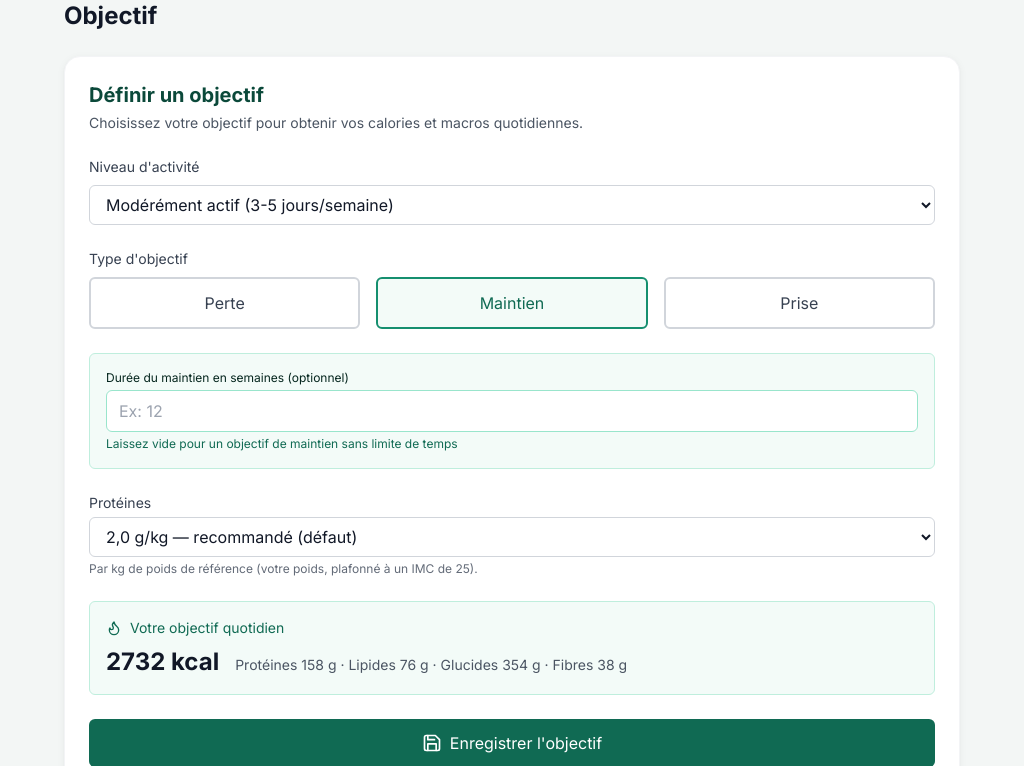
Test: GoalPage › affiche l'erreur de validation sans rien enregistrer
Click the button "Perte".
click(225, 303)  # box 89,277 -> 360,329
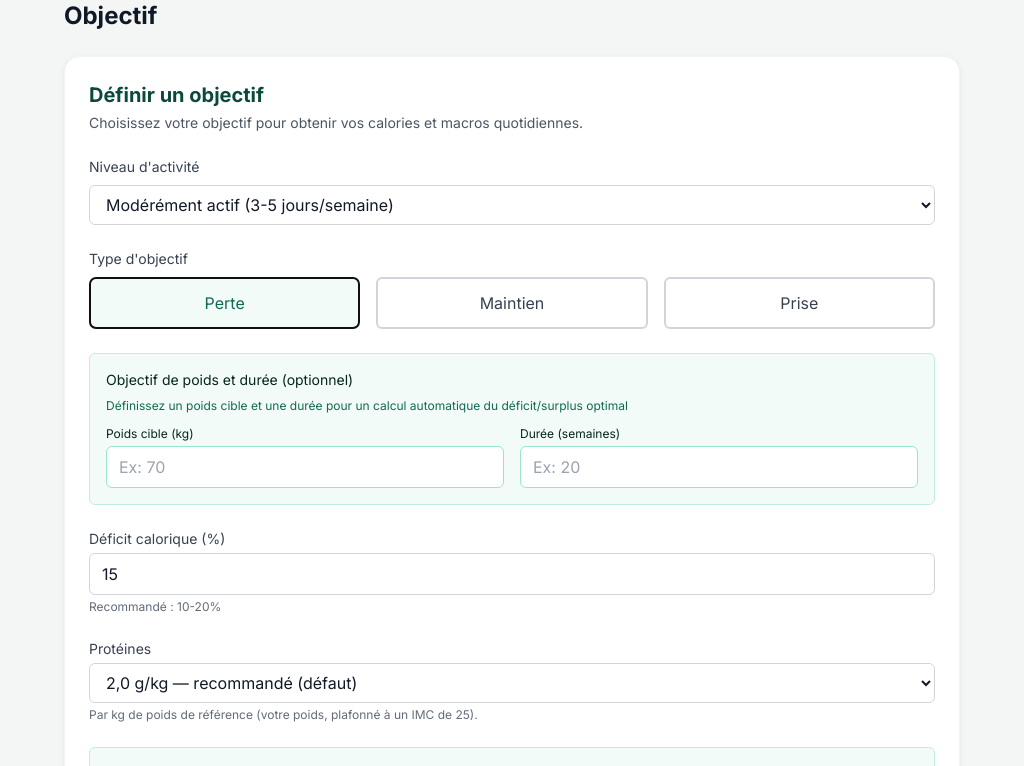
// Poids cible au-dessus du poids actuel pour une perte
Type "90" into the number field labelled "Poids cible (kg)".
click(305, 467); type("90")  # box 106,446 -> 504,488
(page scrolled)
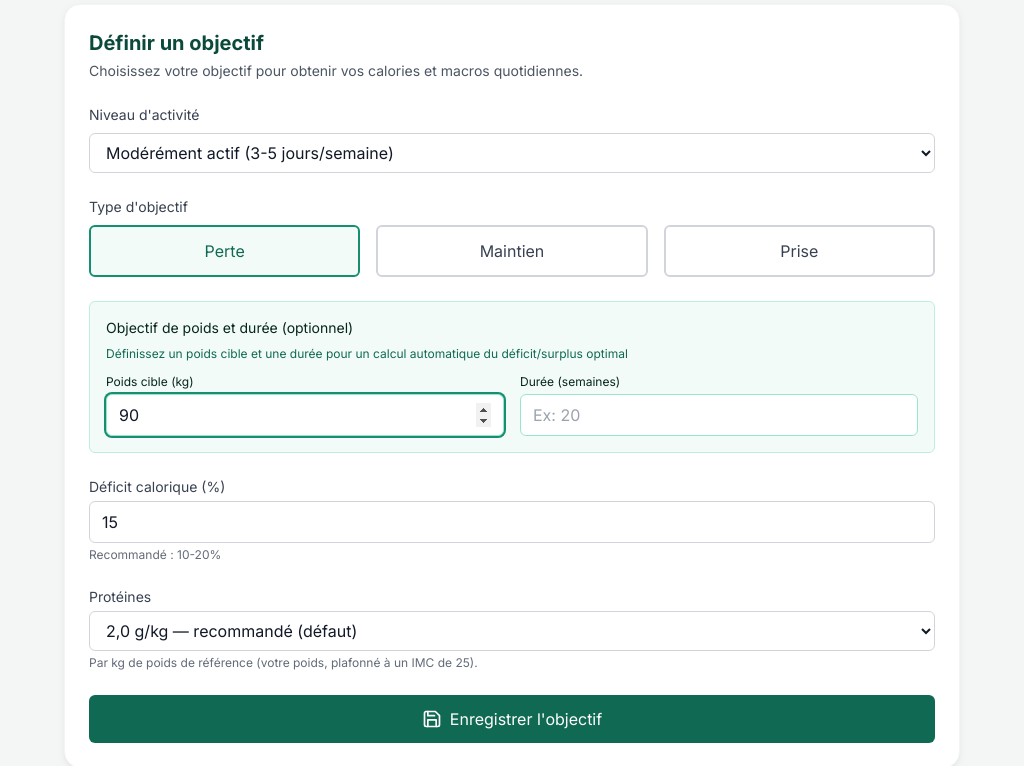
Click the button "Enregistrer l'objectif".
click(512, 719)  # box 89,695 -> 935,743
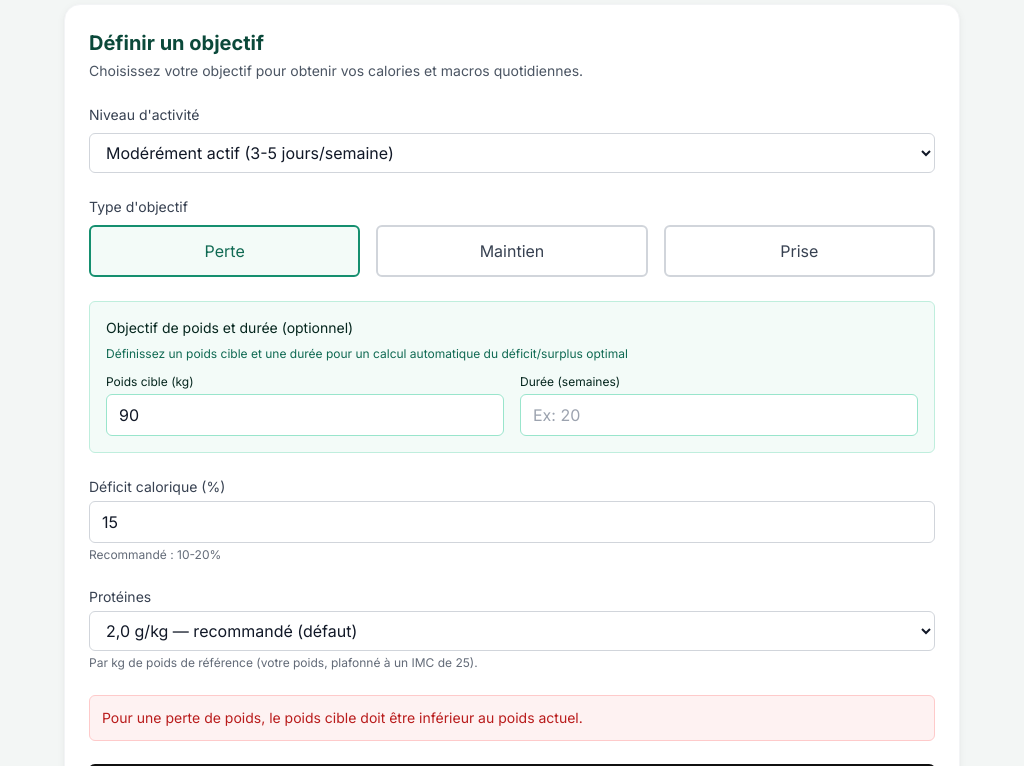
Now the message "Pour une perte de poids, le poids cible doit être inférieur au poids actuel." is shown, box 89,695 -> 935,741
